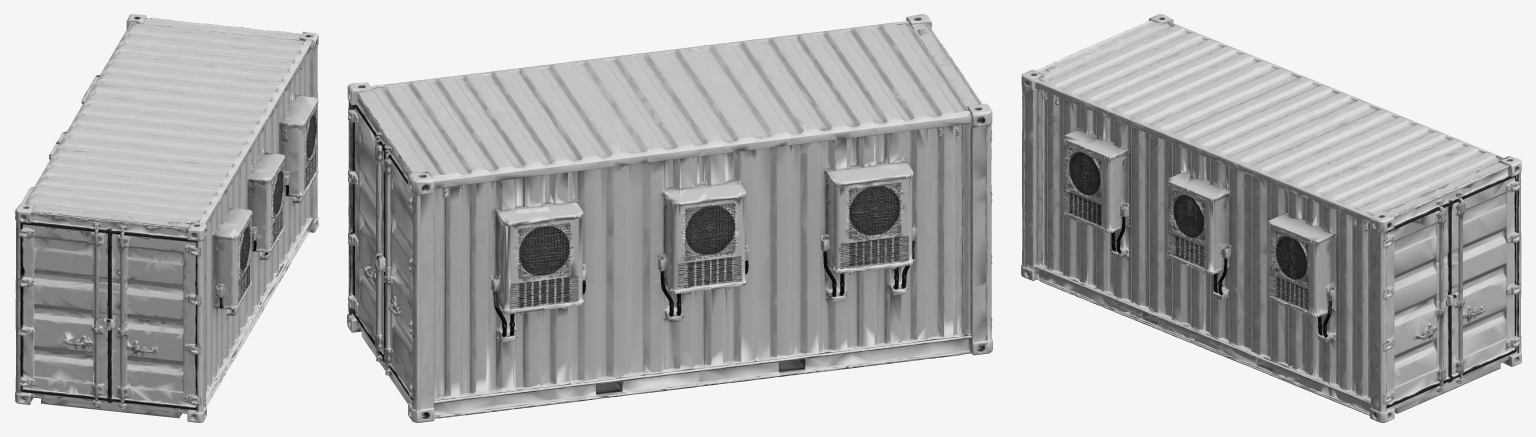
The model's file is container.glb.
3 views of the same model, side by side, from view 1: azimuth 30°, elevation 25°; view 2: azimuth 150°, elevation 25°; view 3: azimuth 270°, elevation 25° (orthographic). The views are drawn at different scales.
Parts seen in each view (by area): view 1: tripo_node_ee52df3c-3608-43c6-a115-fca9feae822a; view 2: tripo_node_ee52df3c-3608-43c6-a115-fca9feae822a; view 3: tripo_node_ee52df3c-3608-43c6-a115-fca9feae822a.
Boxes of the visible parts, x1,y1,x2,y2 form: tripo_node_ee52df3c-3608-43c6-a115-fca9feae822a: (14,14,318,422); tripo_node_ee52df3c-3608-43c6-a115-fca9feae822a: (347,14,992,422); tripo_node_ee52df3c-3608-43c6-a115-fca9feae822a: (1021,14,1521,422).
Size of the model in its own units: 30989 by 14118 by 31506.
1 material, 1 textured.
